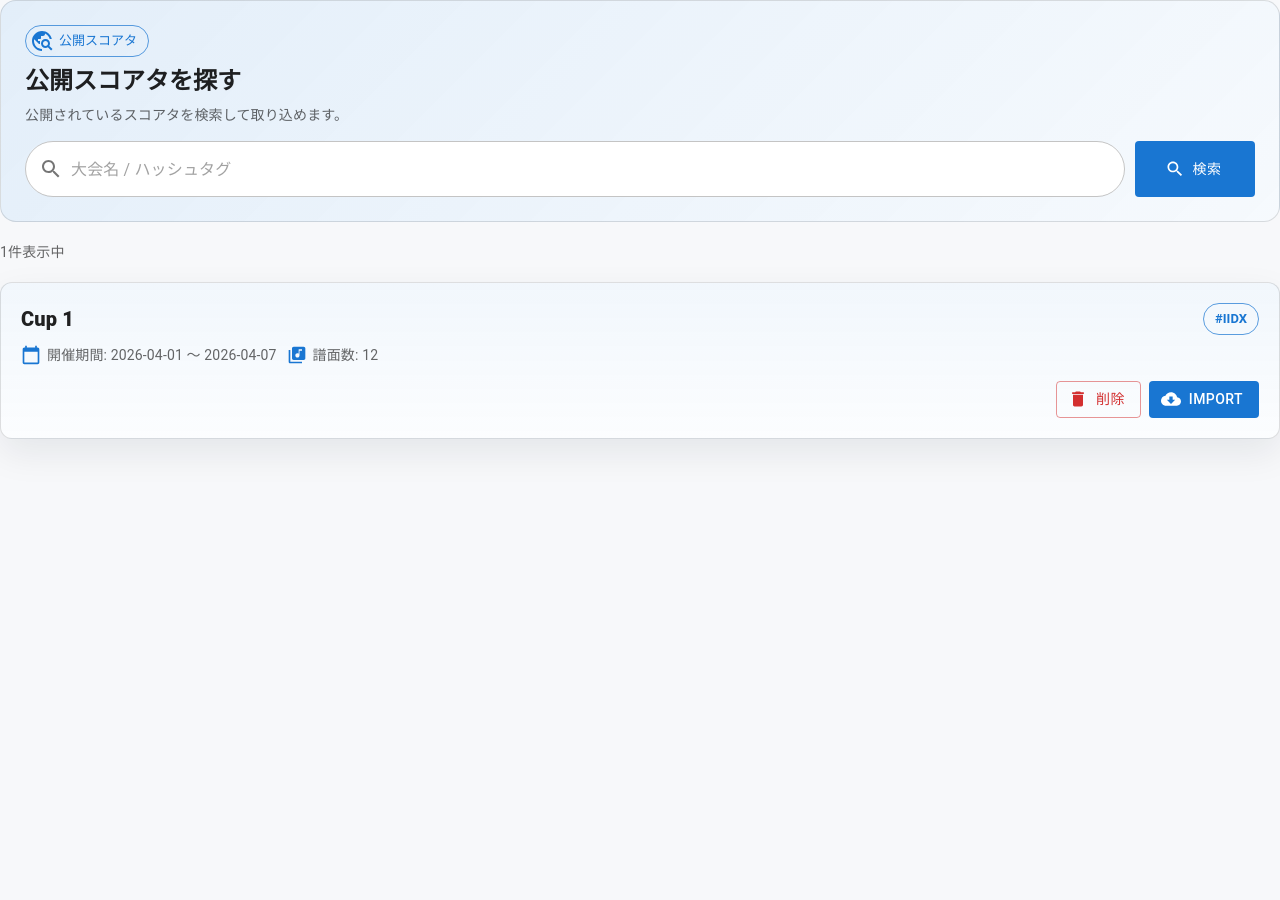
Test: PublicCatalogPage › deletes a locally owned public score attack and removes it from the list
Expected: the heading "Cup 1" is shown, [21,303,74,335]
Step 1. Click the button "削除" → (1098, 399), box [1056,381,1141,418]
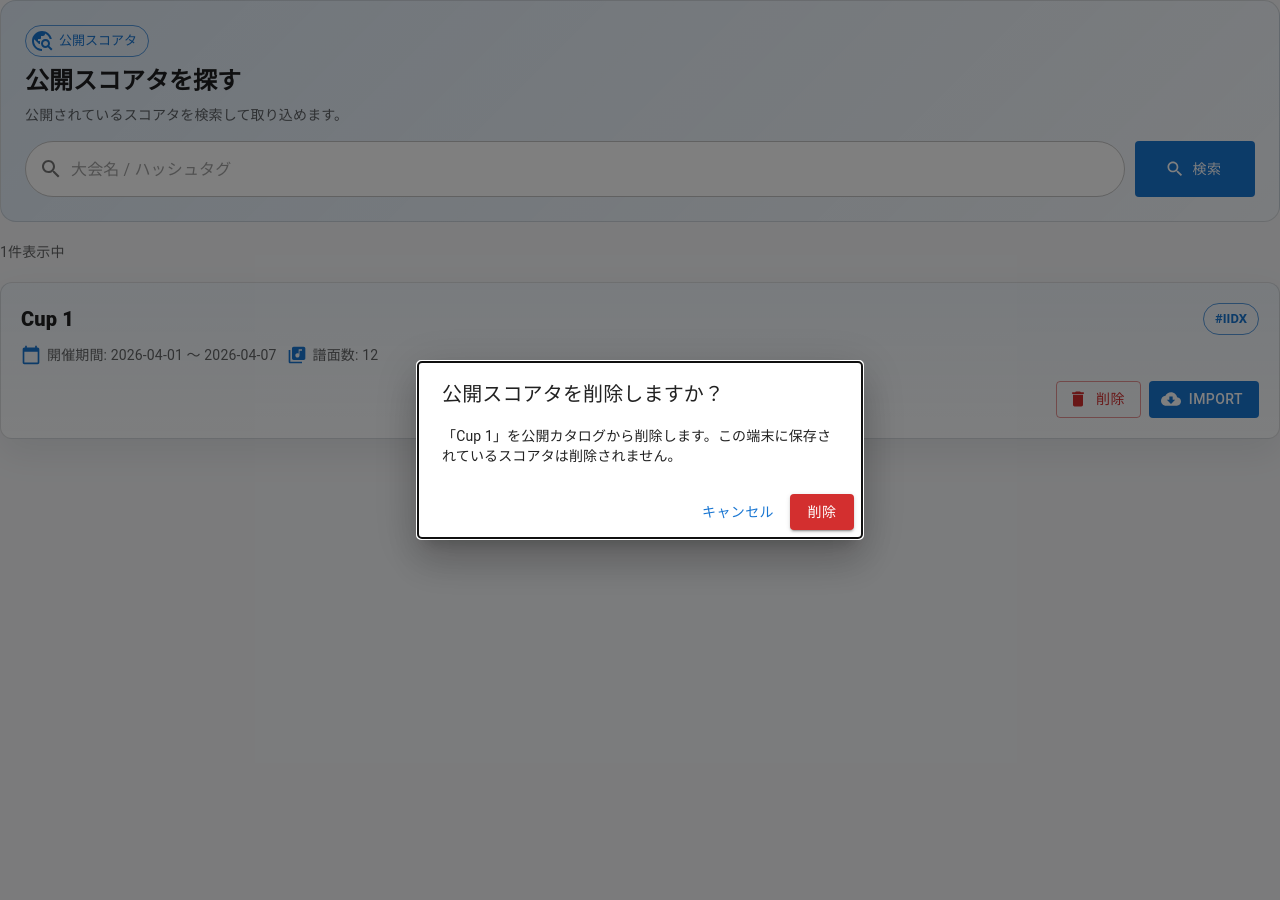
Expected: the heading "公開スコアタを削除しますか？" is shown, [442,382,724,406]
Step 2. Click the button "削除" → (822, 512), box [790,494,854,530]
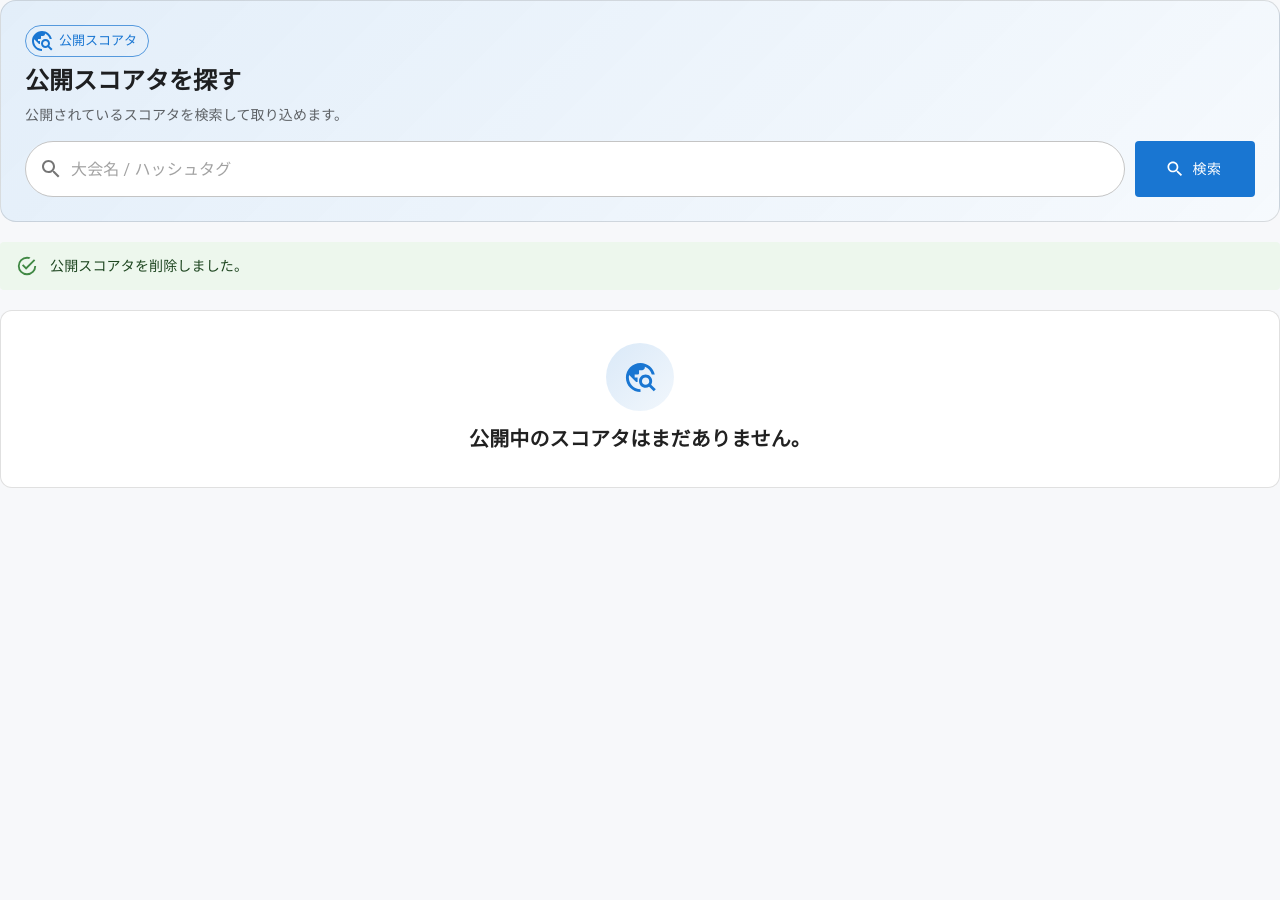
Expected: the text "公開スコアタを削除しました。" is shown, [50,258,248,274]
Expected: the heading "Cup 1" is gone
